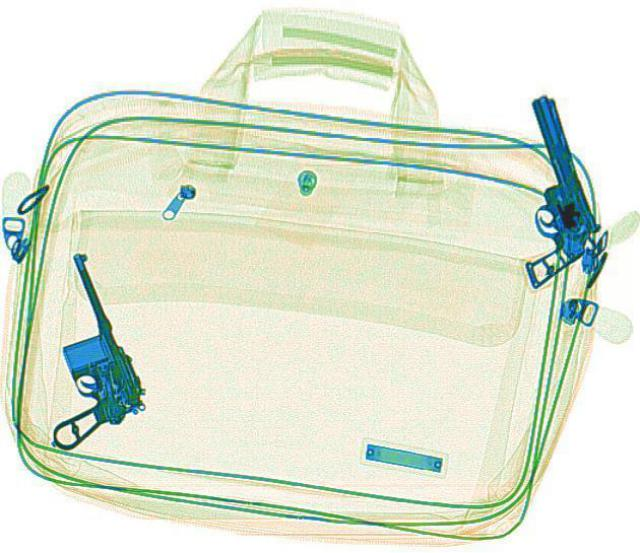Gun: (0, 247, 156, 438), (476, 92, 612, 287)
